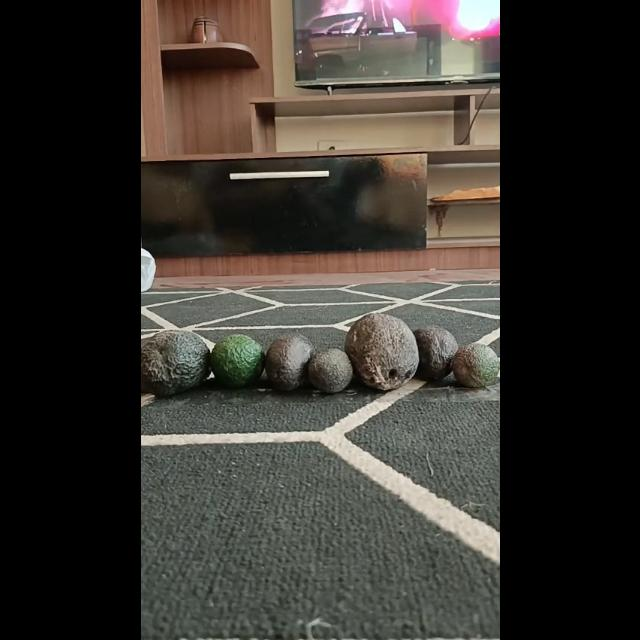Primera: (344, 312, 418, 390), (140, 329, 210, 396)
Segunda: (210, 334, 264, 388), (264, 332, 314, 390), (412, 325, 458, 381)
Tercera: (452, 342, 498, 388), (308, 348, 352, 394)
